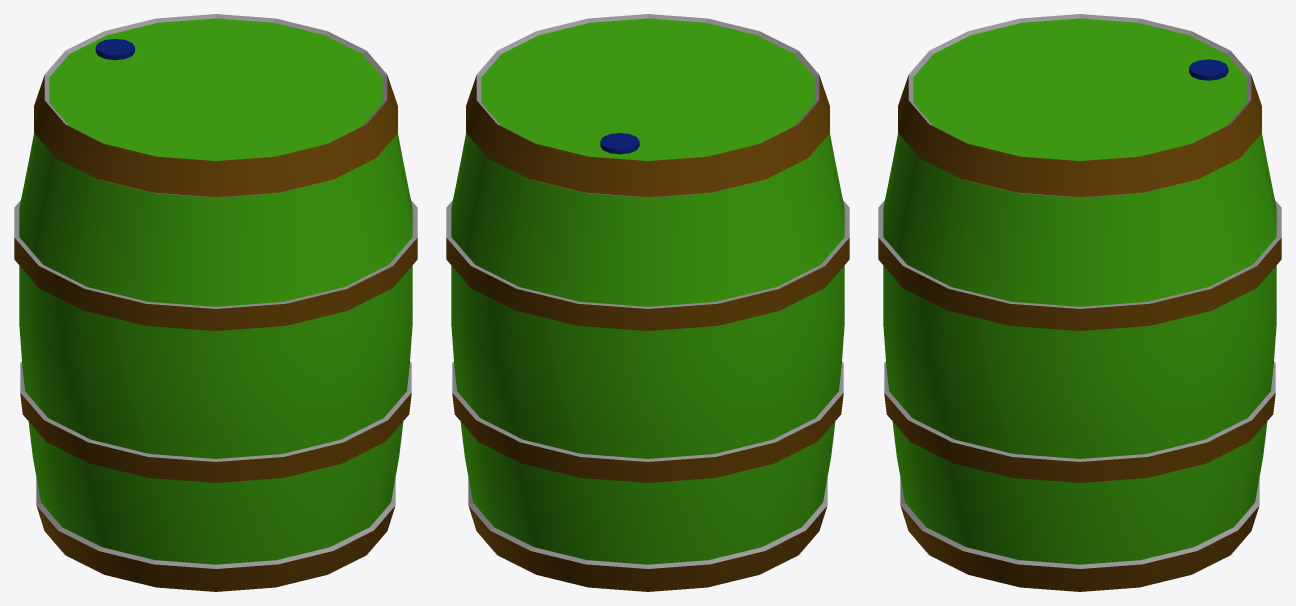
The model's file is barril.FBX.
The picture shows the model from 3 angles, left to right: view 1: azimuth 30°, elevation 25°; view 2: azimuth 150°, elevation 25°; view 3: azimuth 270°, elevation 25°; orthographic projection.
Parts seen in each view (by area): view 1: Cylinder001; view 2: Cylinder001; view 3: Cylinder001.
Boxes of the visible parts, box(x1,y1,x2,y2) form: Cylinder001: box(14, 14, 417, 591); Cylinder001: box(446, 14, 849, 591); Cylinder001: box(878, 14, 1281, 591).
Size of the model in its own units: 34.71 by 40.51 by 34.18.
